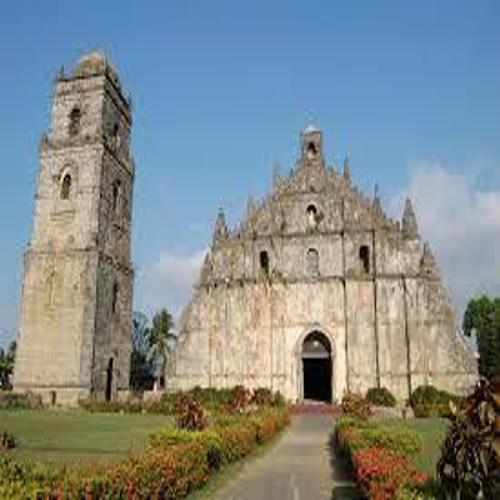Paoay Church: (13, 35, 486, 410)
